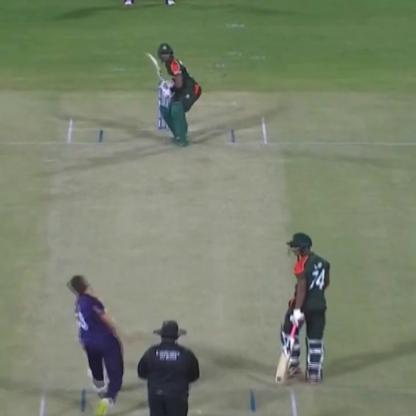bat: (272, 311, 298, 387), (140, 44, 170, 99)
pitch: (34, 99, 308, 416)
